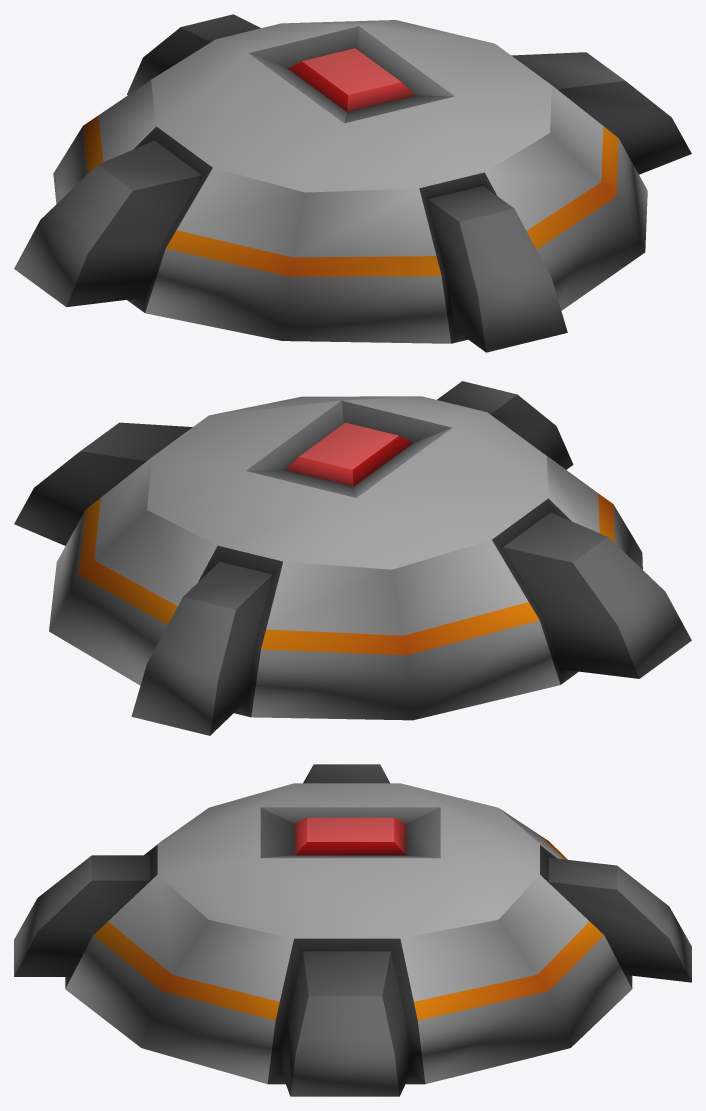
Rendered from mina.fbx.
The picture shows the model from 3 angles, top to bottom: view 1: azimuth 30°, elevation 25°; view 2: azimuth 150°, elevation 25°; view 3: azimuth 270°, elevation 25°; orthographic projection. The views are drawn at different scales.
Parts seen in each view (by area): view 1: pCube3; view 2: pCube3; view 3: pCube3.
Boxes of the visible parts, x1=… form: pCube3: x1=14, y1=14, x2=691, y2=352; pCube3: x1=14, y1=381, x2=691, y2=735; pCube3: x1=14, y1=764, x2=691, y2=1096.
Bounding box in the file's own units: 62.31 × 14.18 × 62.65.
